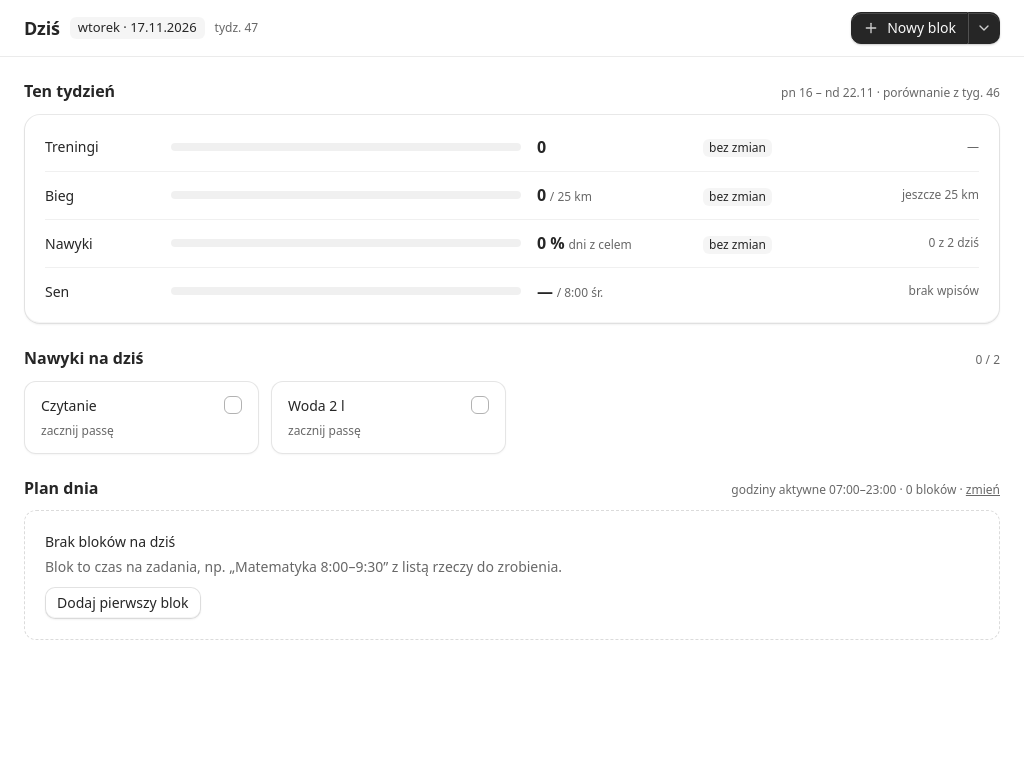
Test case: TodayView › nawyk na dziś: klik odhacza od razu (kafelek, licznik, pasek „Nawyki”), błąd nie występuje
The image size is (1024, 768).
expect the text with test id "licznik-nawykow" reads "0 / 2": met, box [976, 351, 1000, 368]
Click the button "Czytanie zacznij passę" at (142, 417), box [24, 381, 259, 454]
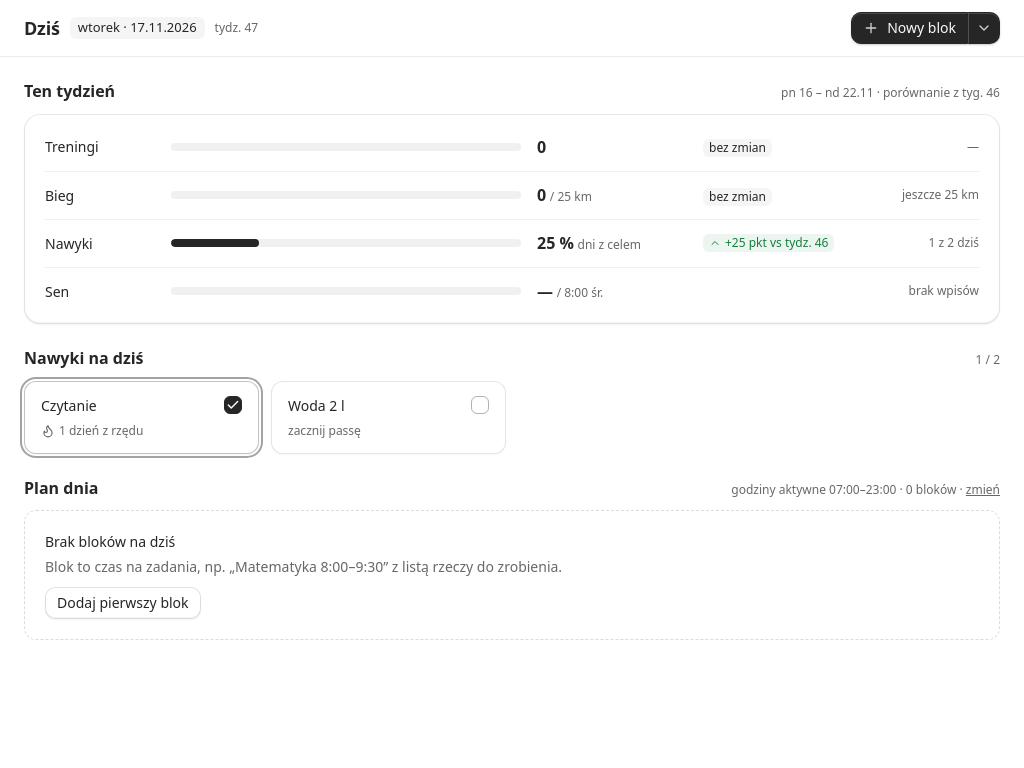
expect the text with test id "licznik-nawykow" reads "1 / 2": met, box [976, 351, 1000, 368]
expect the button "Czytanie 1 dzień z rzędu" is shown: met, box [24, 381, 259, 454]
